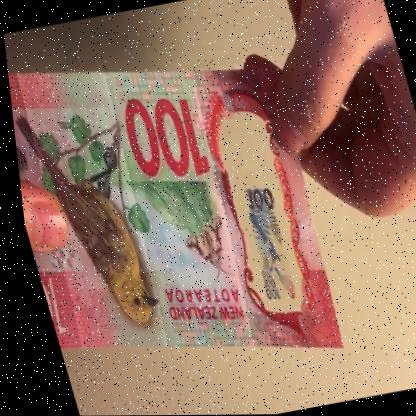100B: (218, 133, 297, 307)
